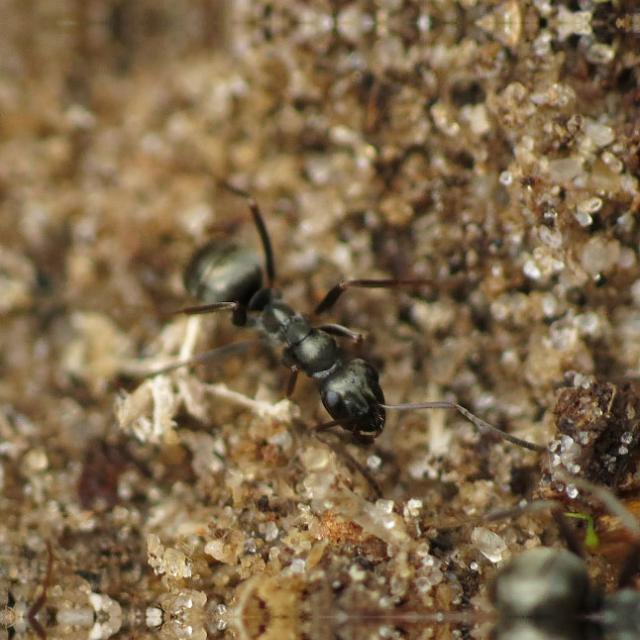Formica: (158, 201, 460, 471)
